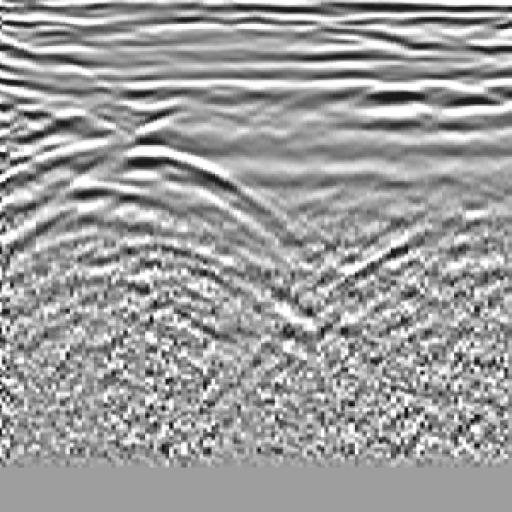metalic: (293, 48, 477, 269)
non-metallic: (24, 130, 296, 303)
